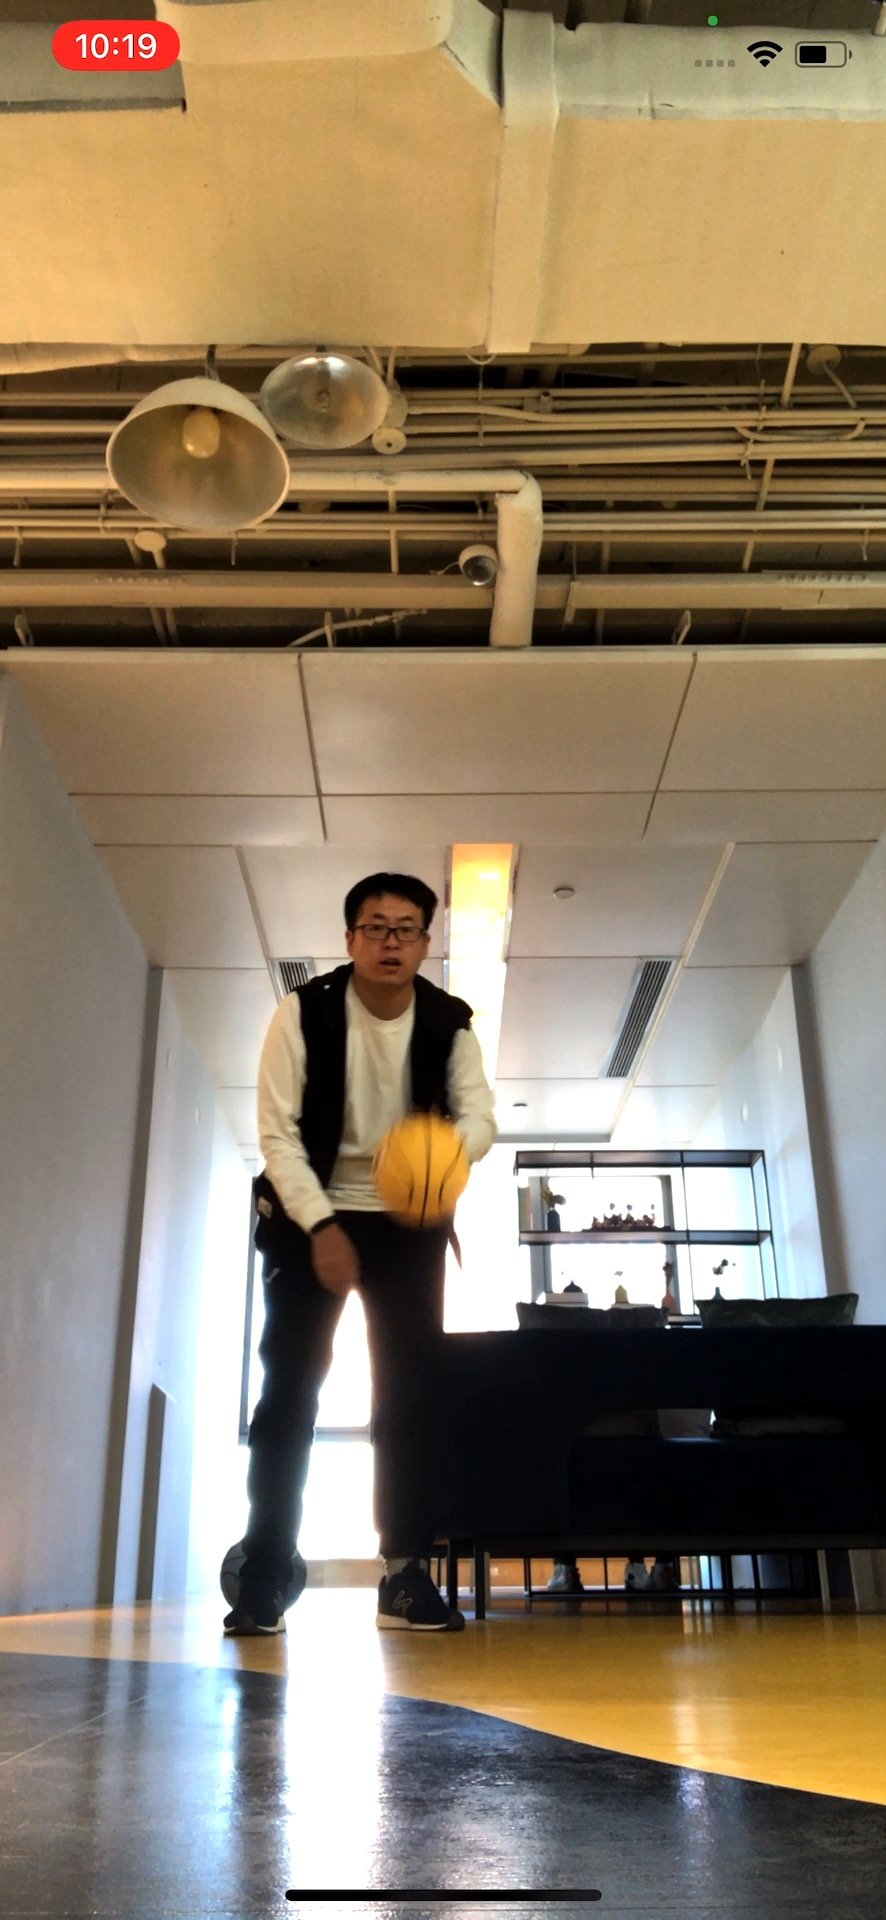ball: (372, 1112, 476, 1236)
